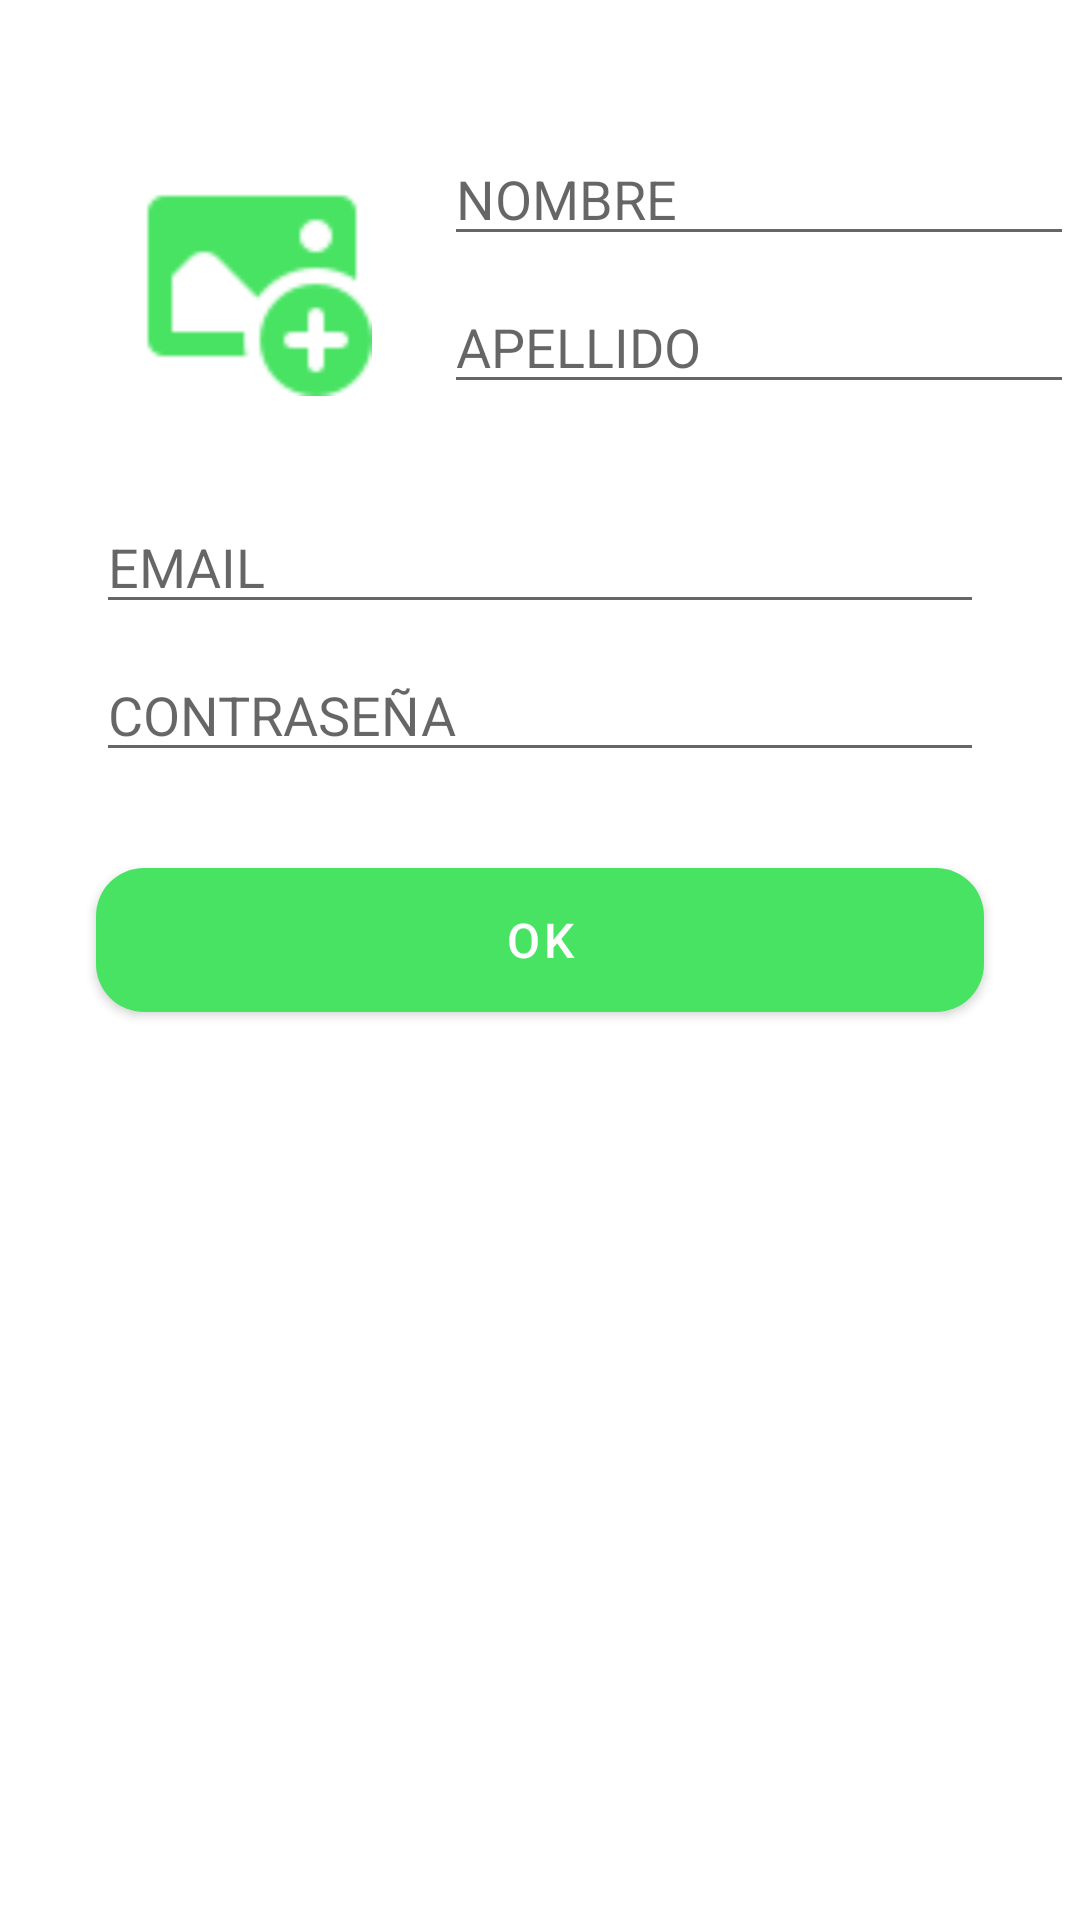

Screen size 1080x1920. Icon name, then its center in pixels as (x=x, y=y):
add: (x=259, y=295)
